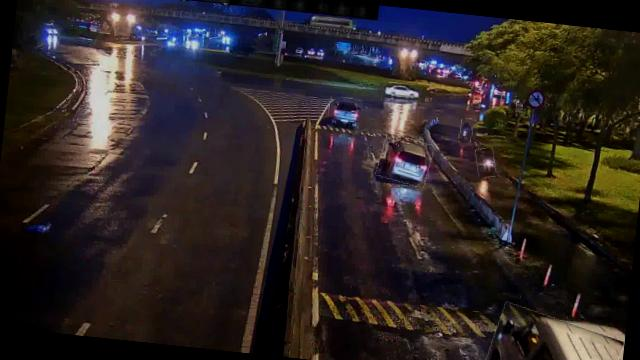Bike: (474, 147, 497, 179), (458, 118, 474, 144)
Bus: (486, 307, 624, 360)
Car: (377, 135, 434, 187), (327, 96, 361, 130), (382, 82, 422, 105)
